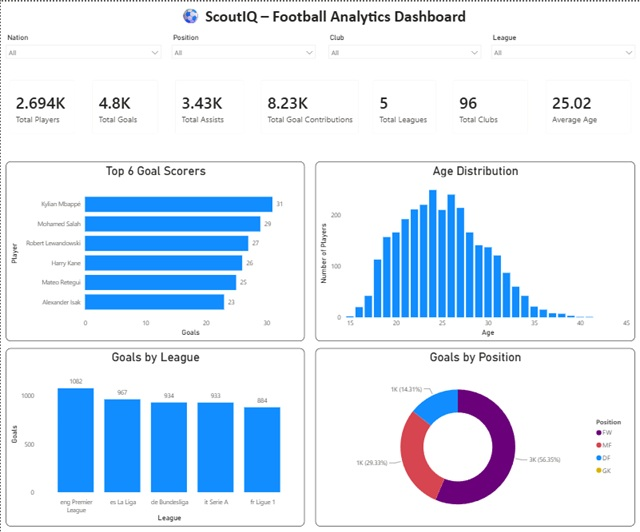

The dashboard page shown, as its layout file describes it:
{"tool":"powerbi","page":{"name":"📊 Executive","canvas":[1280,1070],"ordinal":0},"visuals":[{"type":"textbox","box":[10,0,1270,58.6],"z":0},{"type":"cardVisual","fields":{"Data":["Players.Total Players"]},"box":[0,140,165.7,142.9],"z":1000},{"type":"clusteredBarChart","title":"Top 6 Goal Scorers","fields":{"Category":["Players.Player"],"Y":["Sum(Players.Goals)"]},"box":[10,320,598.6,360],"z":2000},{"type":"clusteredColumnChart","title":"Goals by League","fields":{"Category":["Players.League"],"Y":["Sum(Players.Goals)"]},"box":[10,694,598.6,357.1],"z":3000},{"type":"donutChart","title":"Goals by Position","fields":{"Category":["Players.Position"],"Y":["Sum(Players.Goals)"]},"box":[630,694,640,357.1],"z":4000},{"type":"clusteredColumnChart","title":"Age Distribution","fields":{"Category":["Players.Age"],"Y":["CountNonNull(Players.Player)"]},"box":[630,320,640,360],"z":5000},{"type":"slicer","fields":{"Values":["Players.League"]},"box":[971.4,58.6,308.6,60],"z":6000},{"type":"slicer","fields":{"Values":["Players.Nation"]},"box":[0,58.6,331.4,60],"z":7000},{"type":"slicer","fields":{"Values":["Players.Club"]},"box":[645.7,58.6,325.7,60],"z":8000},{"type":"slicer","fields":{"Values":["Players.Position"]},"box":[331.4,58.6,308.6,60],"z":9000},{"type":"cardVisual","fields":{"Data":["Players.Total Goals"]},"box":[166,140,166,142],"z":10000},{"type":"cardVisual","fields":{"Data":["Players.Total Assists"]},"box":[331.4,140,172.9,142.9],"z":11000},{"type":"cardVisual","fields":{"Data":["Players.Total Goal Contributions"]},"box":[504.3,140,230,142.9],"z":12000},{"type":"cardVisual","fields":{"Data":["Players.Total Clubs"]},"box":[888.6,140,185.7,142.9],"z":13000},{"type":"cardVisual","fields":{"Data":["Players.Total Leagues"]},"box":[727.1,140,161.4,142.9],"z":14000},{"type":"cardVisual","fields":{"Data":["Players.Average Age"]},"box":[1074.3,140,205.8,142.7],"z":15000}]}

Visuals, with their boxes in screenshot pixels (x1, y1, x2, y2), scaled from the page's 1280x1070 canvas onto the 640x532 screenshot:
textbox: {"left": 5, "top": 0, "right": 639, "bottom": 29}
cardVisual - Players.Total Players: {"left": 0, "top": 70, "right": 83, "bottom": 141}
"Top 6 Goal Scorers" clusteredBarChart: {"left": 5, "top": 159, "right": 304, "bottom": 338}
"Goals by League" clusteredColumnChart: {"left": 5, "top": 345, "right": 304, "bottom": 523}
"Goals by Position" donutChart: {"left": 315, "top": 345, "right": 635, "bottom": 523}
"Age Distribution" clusteredColumnChart: {"left": 315, "top": 159, "right": 635, "bottom": 338}
slicer - Players.League: {"left": 486, "top": 29, "right": 639, "bottom": 59}
slicer - Players.Nation: {"left": 0, "top": 29, "right": 166, "bottom": 59}
slicer - Players.Club: {"left": 323, "top": 29, "right": 486, "bottom": 59}
slicer - Players.Position: {"left": 166, "top": 29, "right": 320, "bottom": 59}
cardVisual - Players.Total Goals: {"left": 83, "top": 70, "right": 166, "bottom": 140}
cardVisual - Players.Total Assists: {"left": 166, "top": 70, "right": 252, "bottom": 141}
cardVisual - Players.Total Goal Contributions: {"left": 252, "top": 70, "right": 367, "bottom": 141}
cardVisual - Players.Total Clubs: {"left": 444, "top": 70, "right": 537, "bottom": 141}
cardVisual - Players.Total Leagues: {"left": 364, "top": 70, "right": 444, "bottom": 141}
cardVisual - Players.Average Age: {"left": 537, "top": 70, "right": 639, "bottom": 141}
